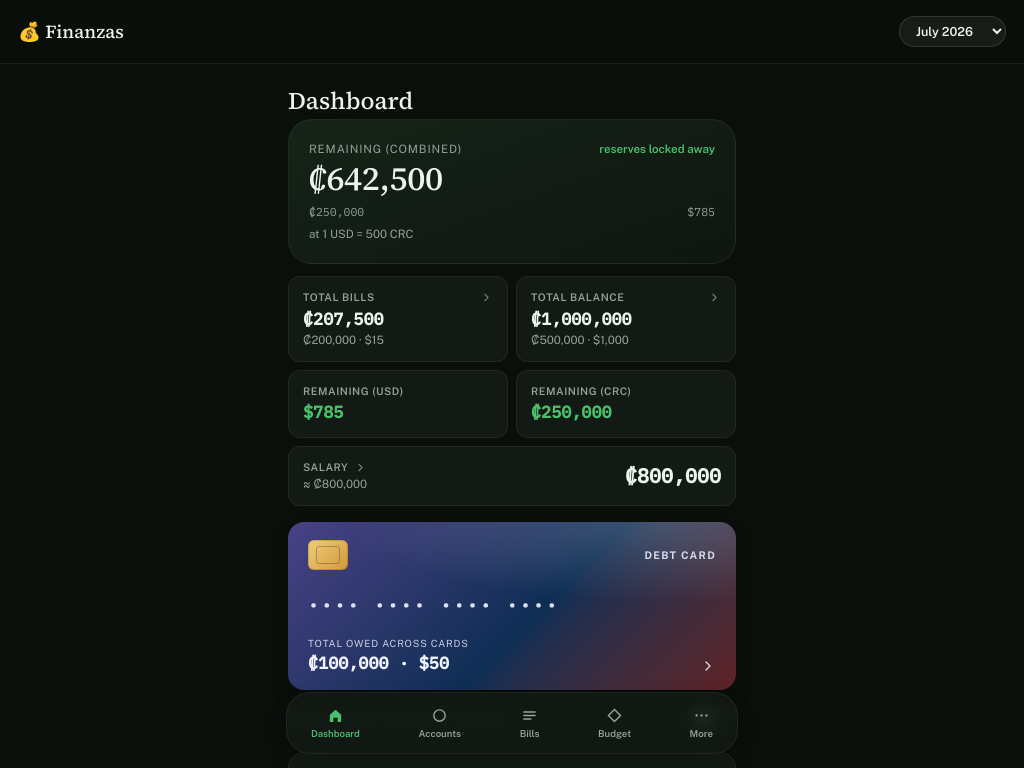
Test: Credit Cards — with data › shows the owed totals as the card debt (unpaid card bills not yet charged)
Click the button "More": (701, 723) [684,703,719,743]
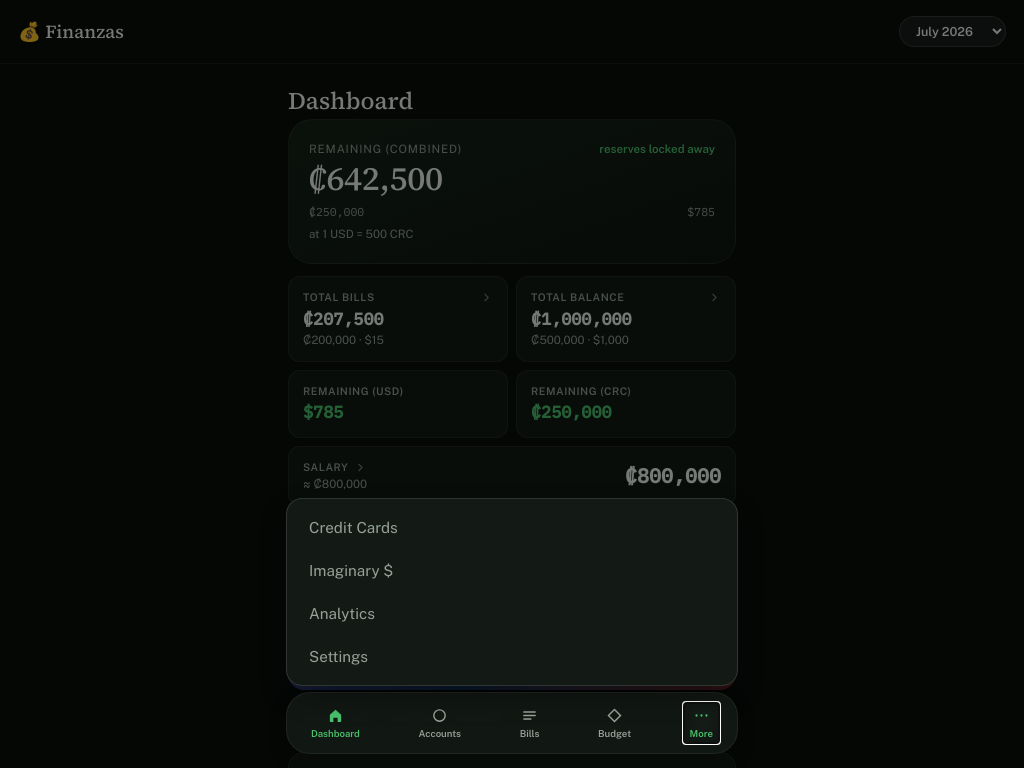
Click the button "Credit Cards": (353, 528) [295,507,729,548]
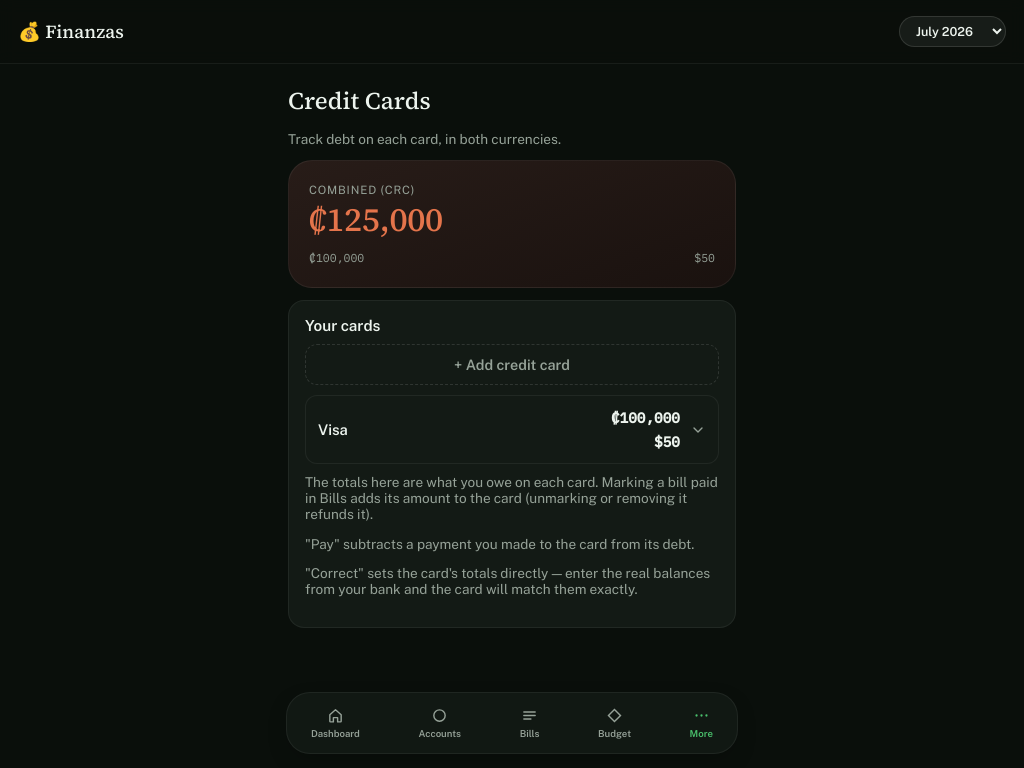
Result: the text "₡100,000" below "₡125,000" is shown at [309,250,364,265]
Result: the text "$50" below "₡125,000" is shown at [694,250,715,265]
